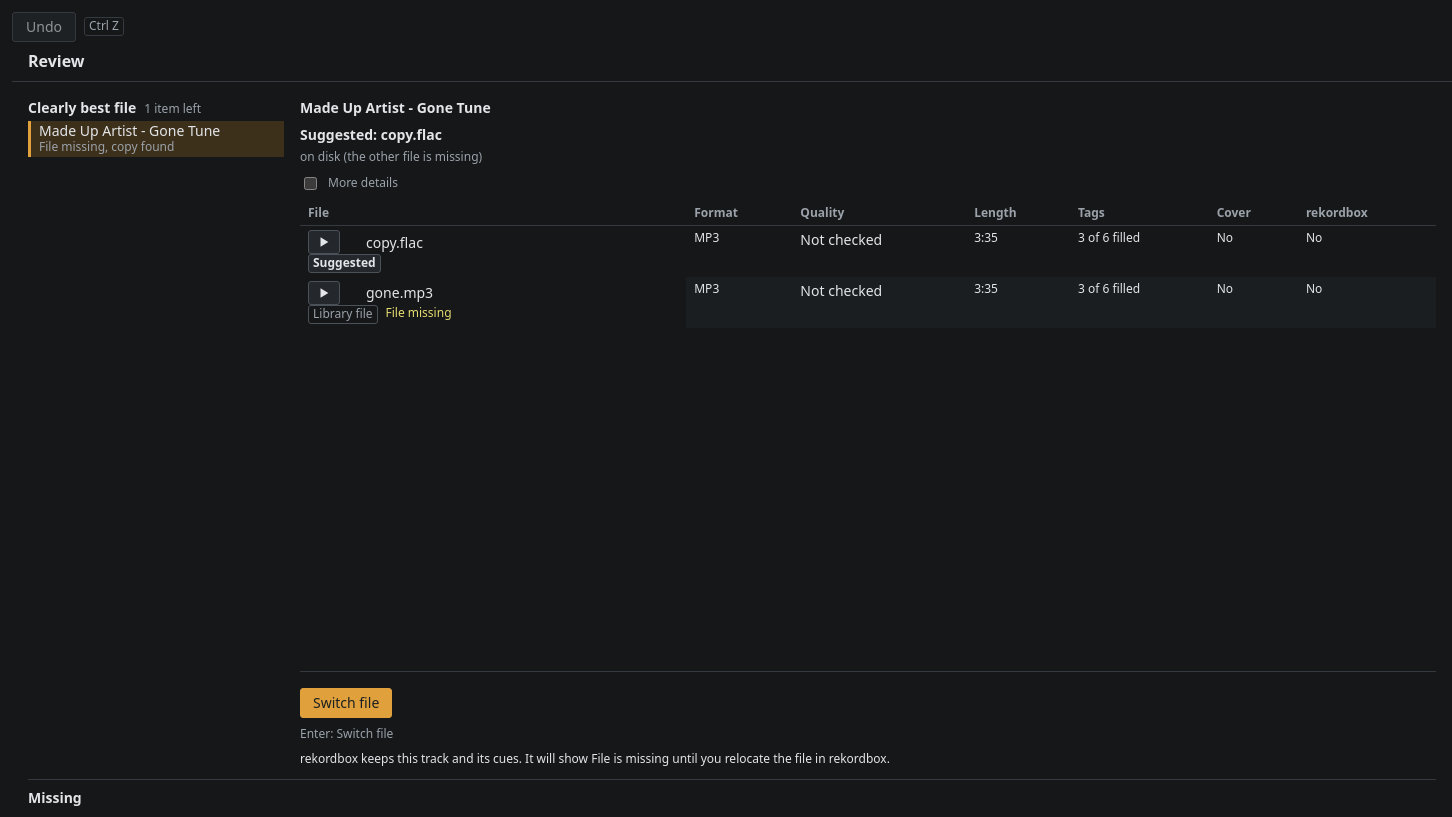
Test case: a Linked file gone, copy found item › shows the item again when the switch no longer means what was shown
What coordinates should you click on to do the following:
click the button "Switch file"
I would click on:
 (346, 703)
Its box is left=300, top=688, right=392, bottom=718.
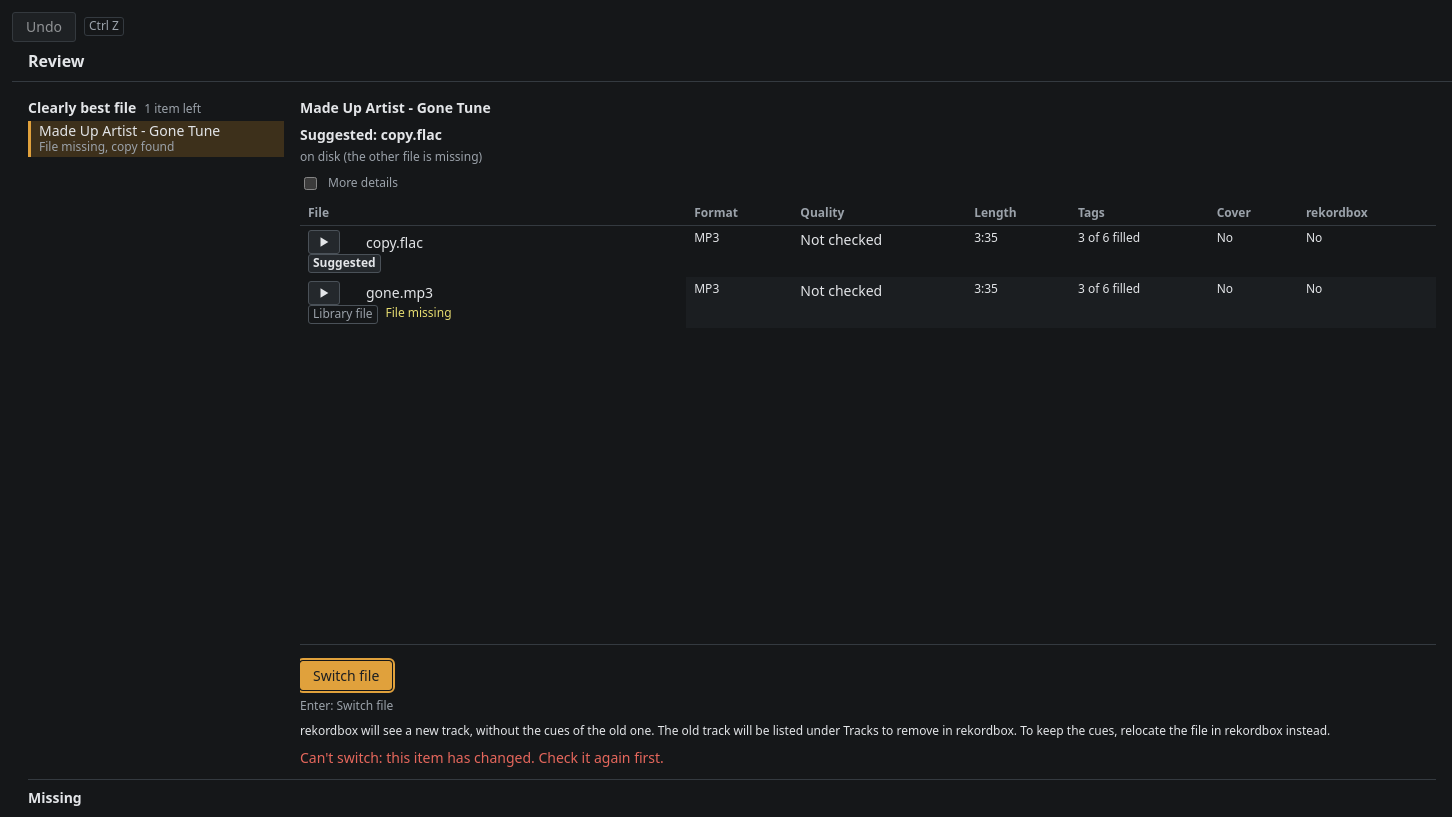
Result: the message reads "Can't switch: this item has changed. Check it again first." at left=300, top=748, right=664, bottom=767
Result: the text "rekordbox will see a new track, without the cues of the old one. The old track will be listed under Tracks to remove in " is shown at left=300, top=722, right=1330, bottom=739
Result: the text "rekordbox keeps this track and its cues. It will show File is missing until you relocate the file in rekordbox." is gone
